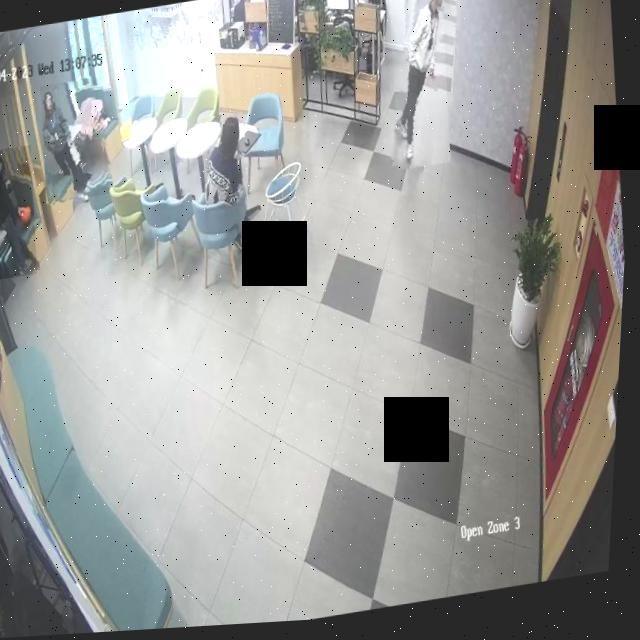person: (380, 0, 460, 176), (36, 76, 116, 205), (0, 145, 44, 280), (198, 114, 253, 215)
